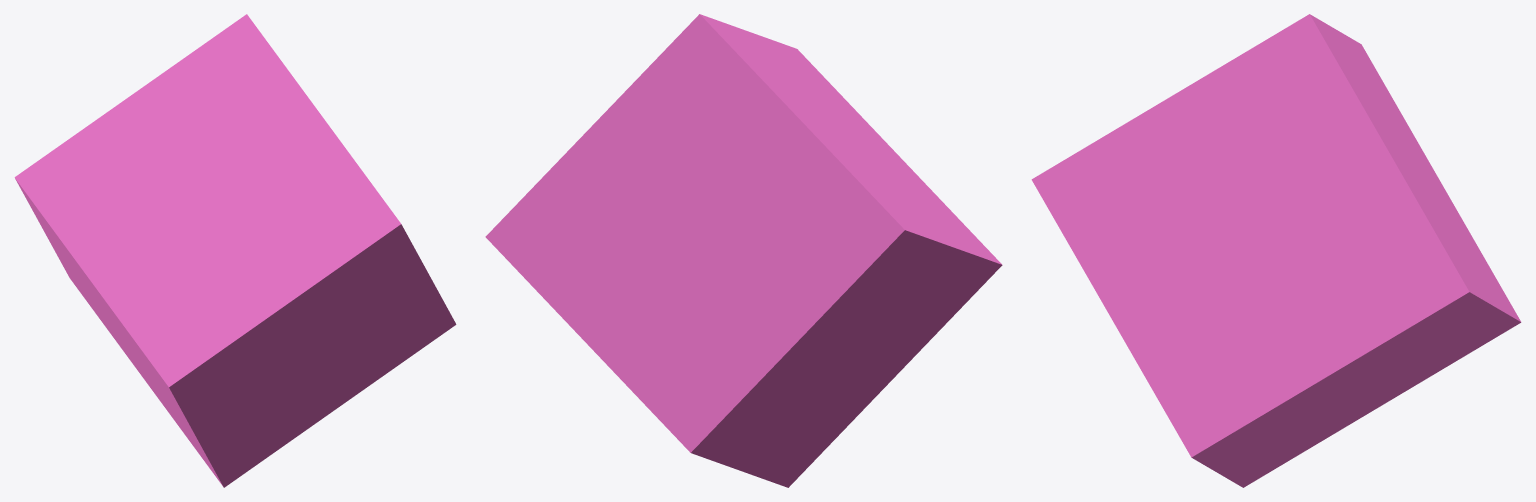
Rendered from InfoExpo_ImagenesExpandidas.gltf.
3 views of the same model, side by side, from view 1: azimuth 30°, elevation 25°; view 2: azimuth 150°, elevation 25°; view 3: azimuth 270°, elevation 25° (orthographic). The views are drawn at different scales.
Parts seen in each view (by area): view 1: InfoExpo_ImagenesExpandidas; view 2: InfoExpo_ImagenesExpandidas; view 3: InfoExpo_ImagenesExpandidas.
Boxes of the visible parts, bbox=[...] form: InfoExpo_ImagenesExpandidas: bbox=[14, 14, 456, 487]; InfoExpo_ImagenesExpandidas: bbox=[485, 14, 1002, 487]; InfoExpo_ImagenesExpandidas: bbox=[1031, 14, 1521, 487].
Size of the model in its own units: 0.32 by 0.3661 by 0.3233.
